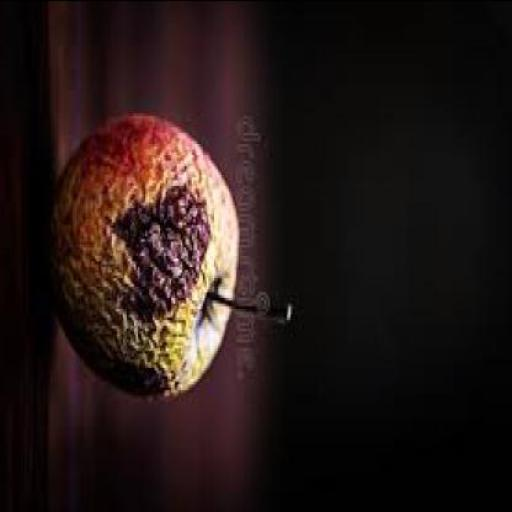biodegradable: (52, 104, 294, 397)
